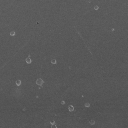corrosion: (35, 78, 45, 86), (9, 29, 16, 37), (25, 56, 32, 64), (15, 79, 22, 86), (68, 105, 75, 112), (50, 58, 58, 64), (93, 5, 100, 11), (49, 120, 57, 125), (84, 102, 91, 107), (60, 100, 66, 105)
